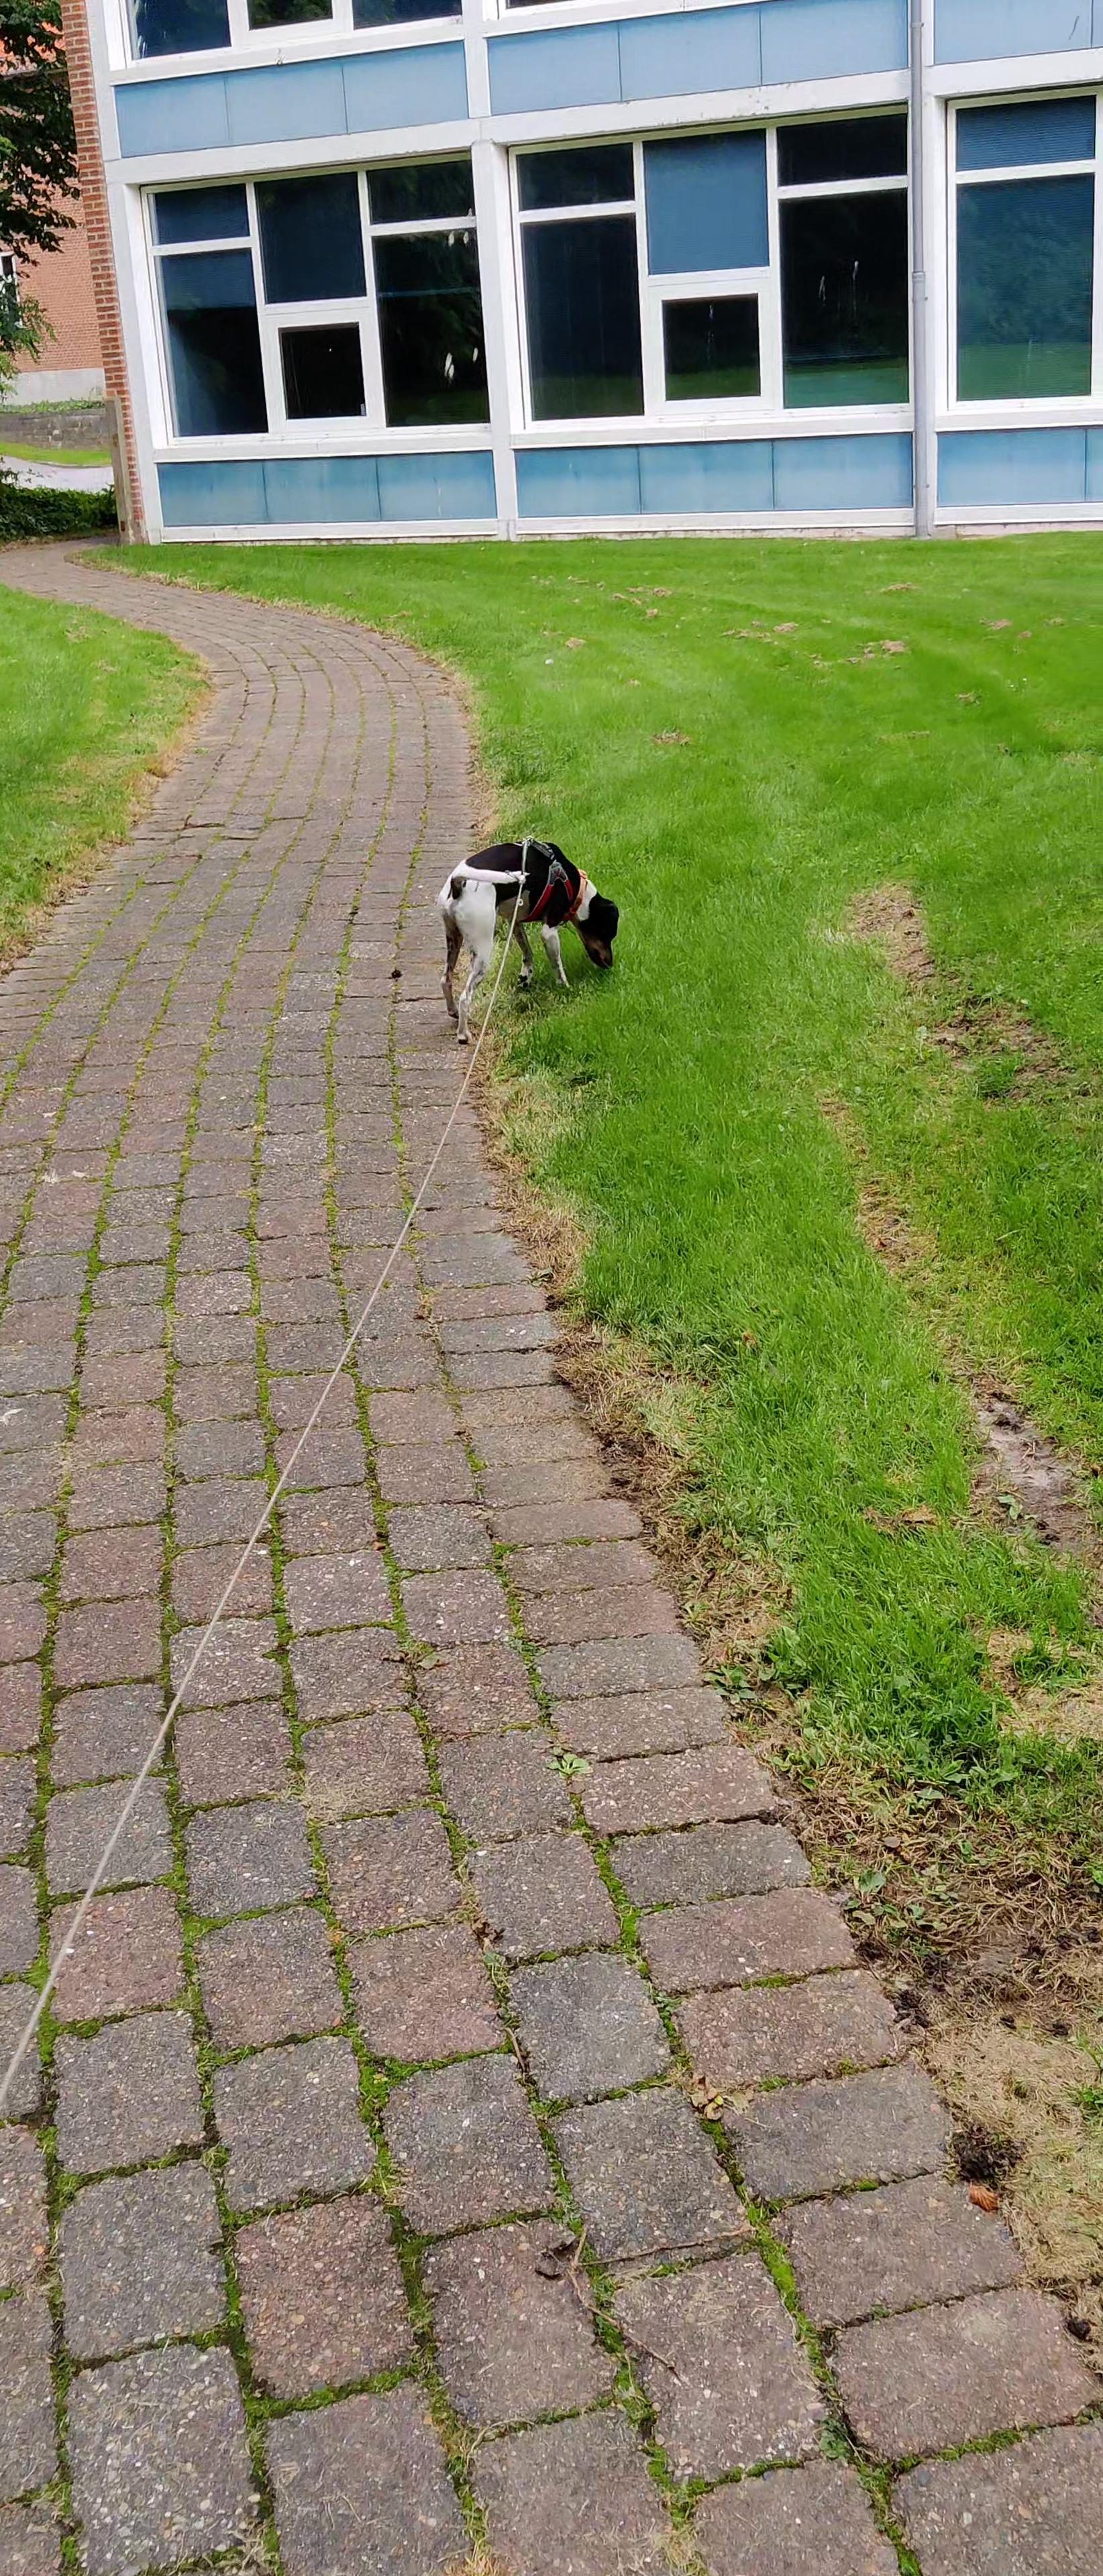Dog: (432, 828, 623, 1051)
